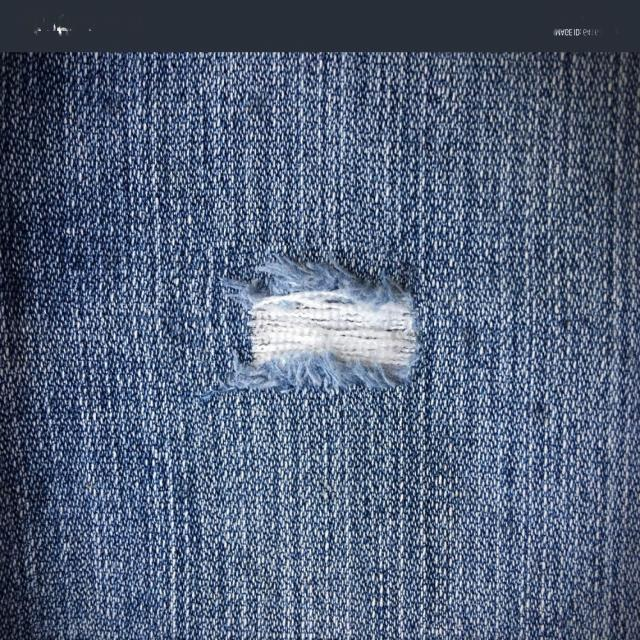Hole: (221, 257, 419, 392)
